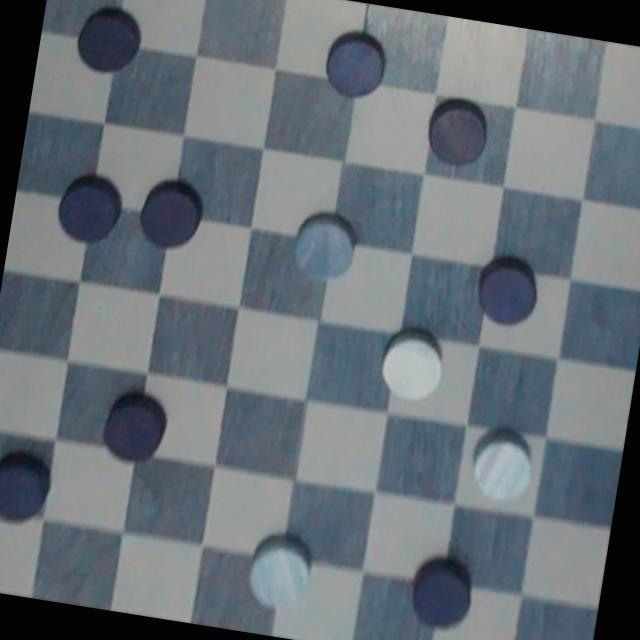BOARD: (0, 0, 640, 640)
black: (94, 384, 178, 476), (402, 548, 482, 636), (420, 89, 498, 174), (134, 172, 212, 256), (469, 250, 548, 332), (321, 22, 398, 104), (72, 1, 152, 78), (54, 166, 124, 250), (0, 443, 61, 531)
white: (368, 315, 452, 413), (240, 522, 324, 618), (465, 422, 542, 512), (284, 204, 364, 287)
